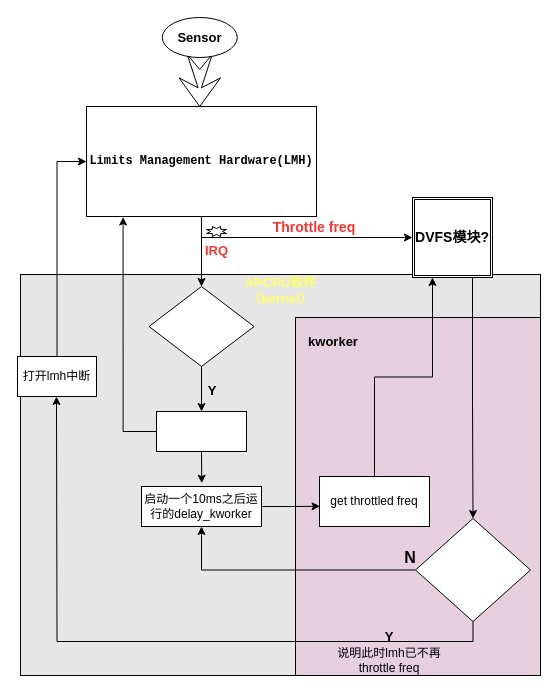
This 558x693 diagram has some shape labels left out. Each missing label, with the centre of its shape:
"cpu收到中断？" belongs at [201,326].
"throlttled freq >= req freq?" belongs at [472,570].
"关闭lmh的中断" belongs at [201,431].
